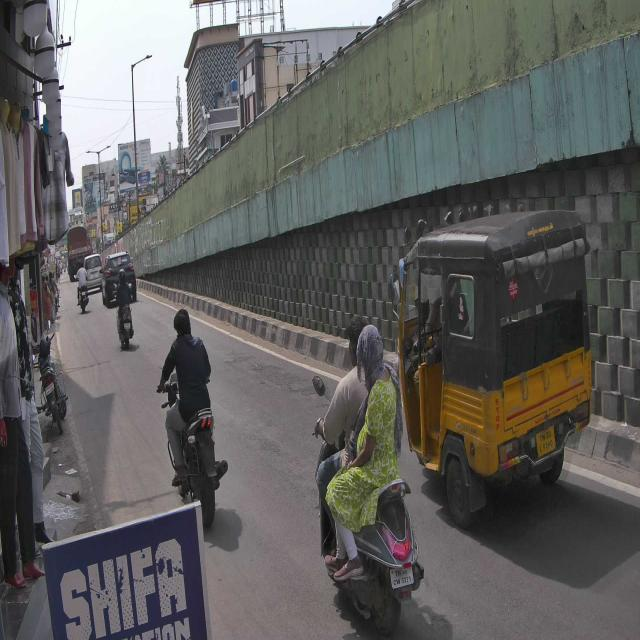double_rider: (312, 306, 425, 635)
single_rider: (158, 306, 228, 533)
